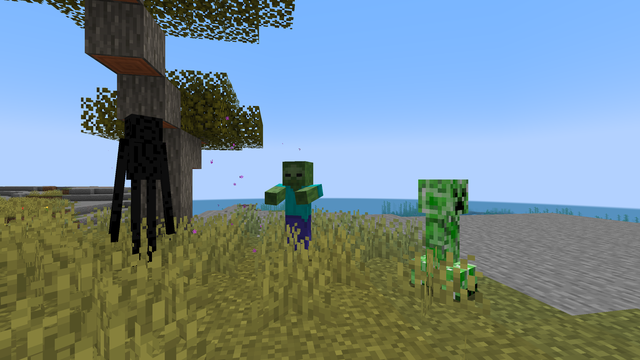creepers: (413, 174, 474, 297)
endermens: (116, 109, 165, 269)
zombies: (283, 163, 313, 260)
